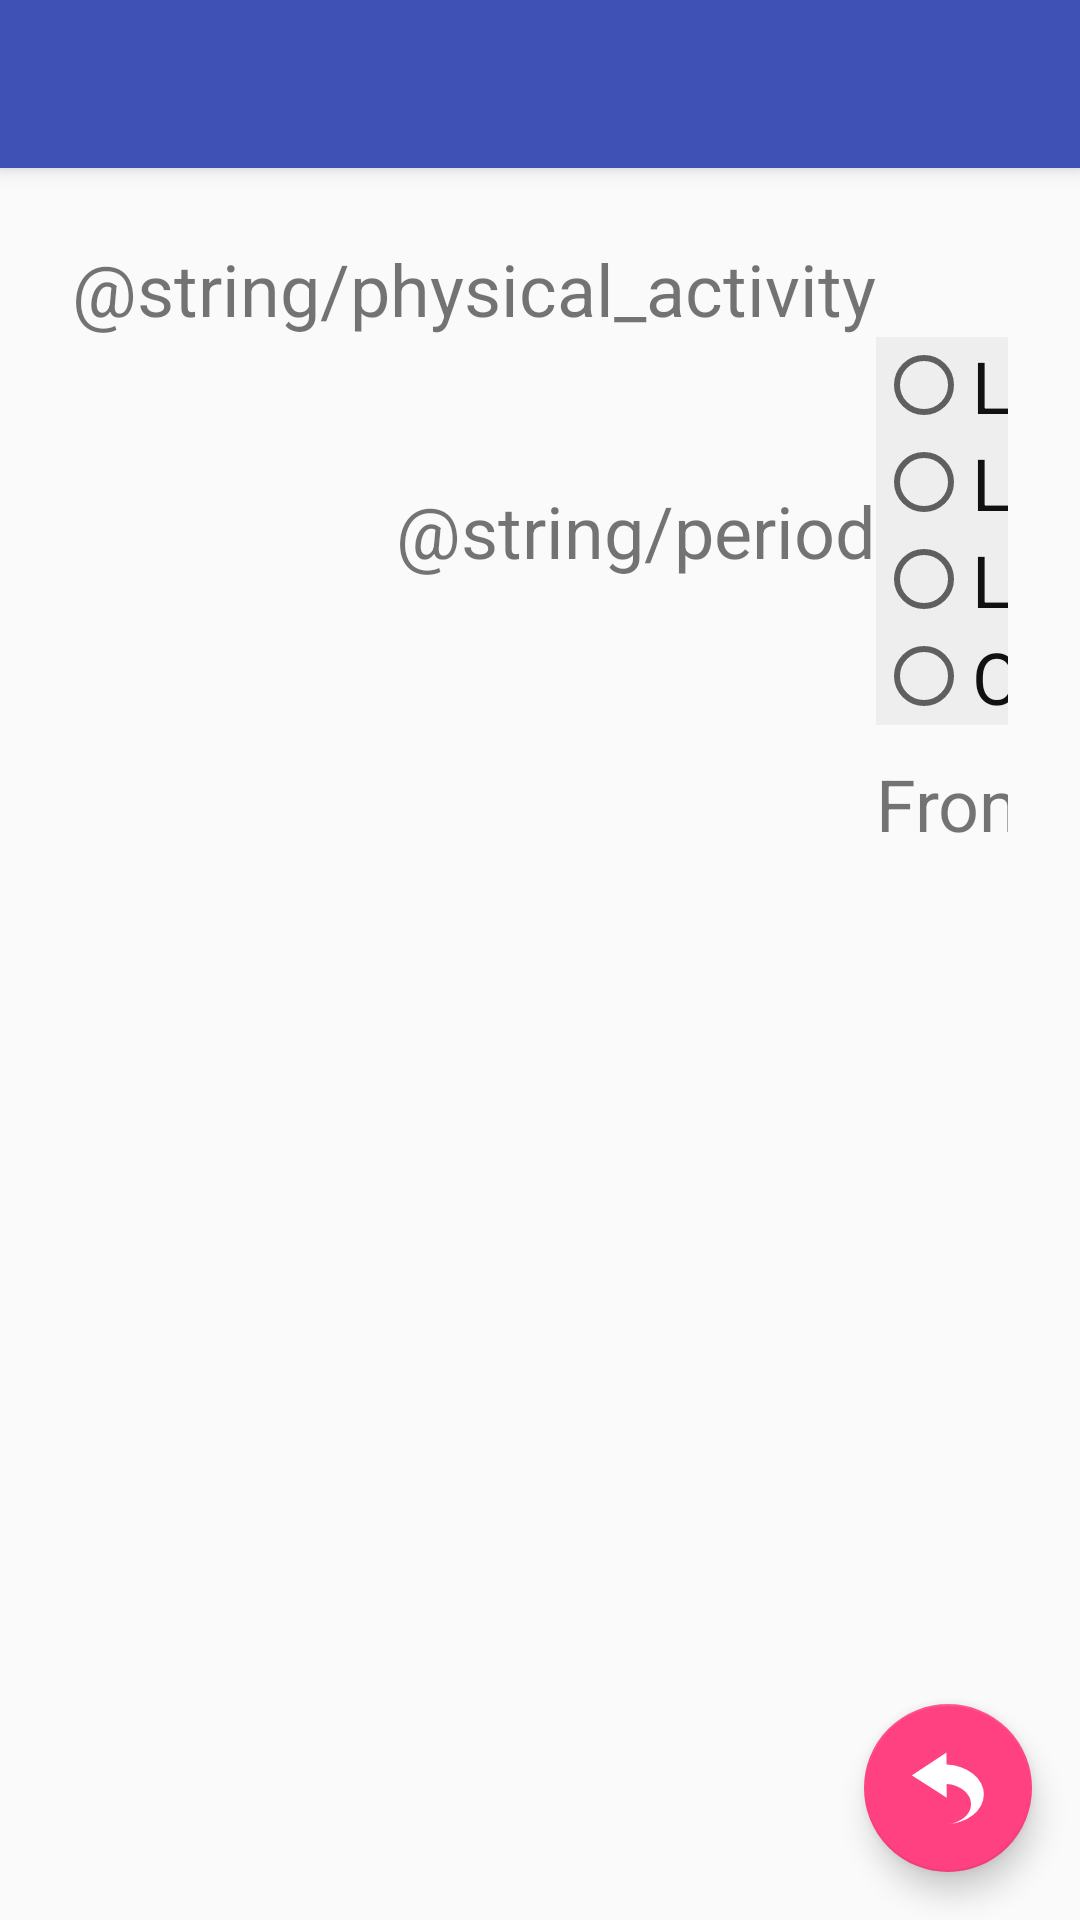

Screen size 1080w x 1920h. Icon name, then its box in pixels as bbox(x1, y1, x2, y2):
return: bbox(864, 1704, 1032, 1872)
